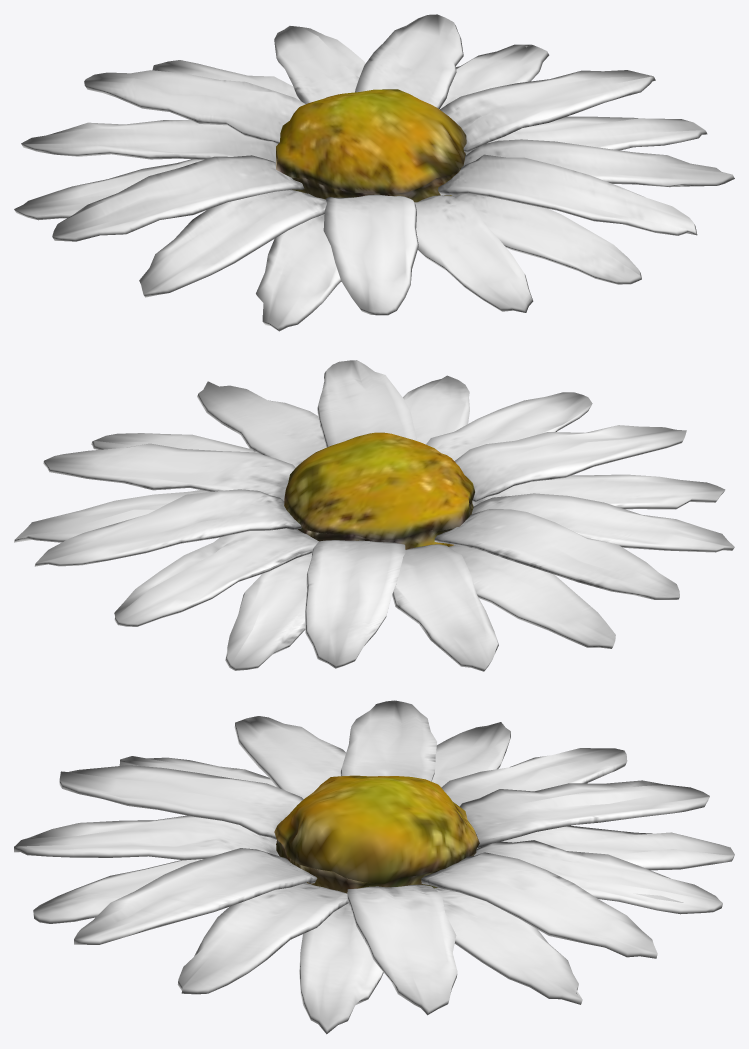
File: daisy.glb
3 views of the same model, one above another, from view 1: azimuth 30°, elevation 25°; view 2: azimuth 150°, elevation 25°; view 3: azimuth 270°, elevation 25° (orthographic).
Visible parts, largest first — view 1: daisy; view 2: daisy; view 3: daisy.
Boxes of the visible parts, x1,y1,x2,y2 form: daisy: [14, 14, 734, 331]; daisy: [14, 360, 734, 671]; daisy: [14, 700, 734, 1034].
Bounding box in the file's own units: 0.1006 × 0.0154 × 0.0994.
2 materials, 2 textured.
